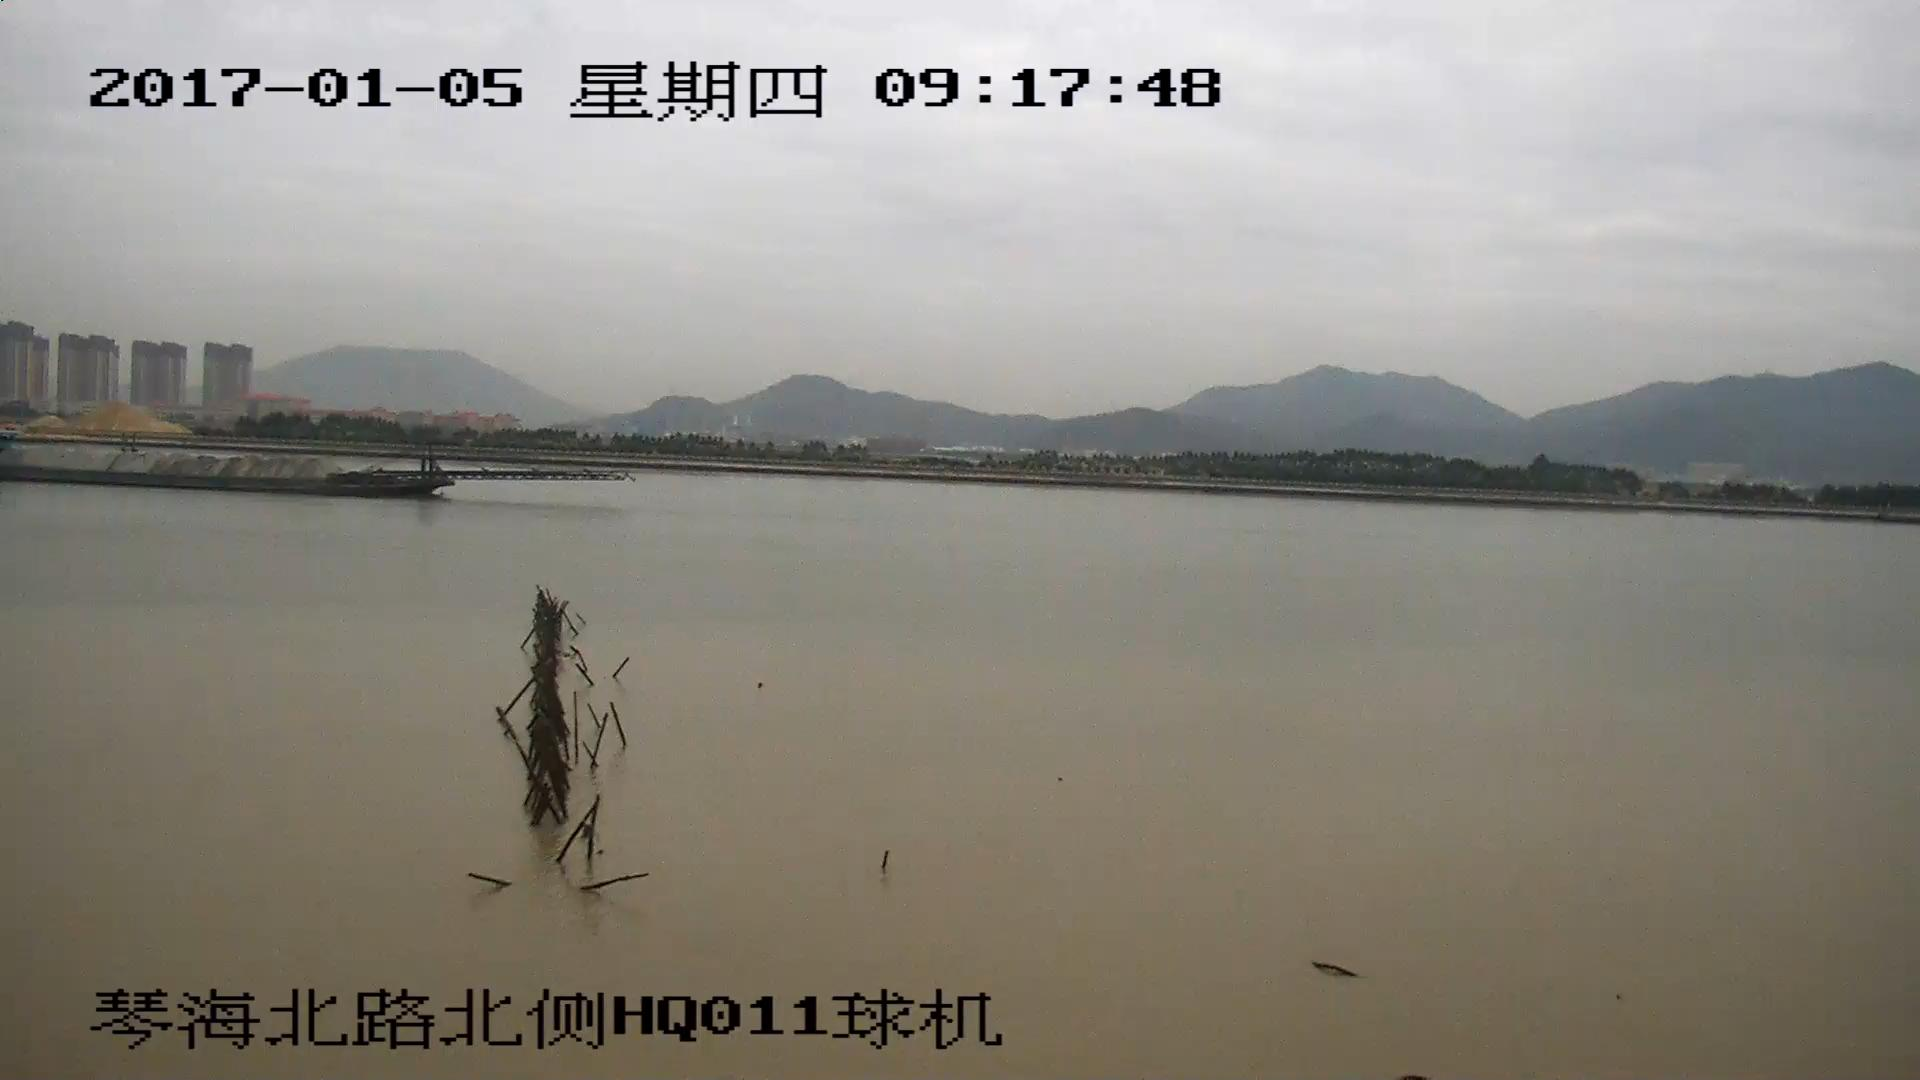ore carrier: (1, 440, 626, 497)
